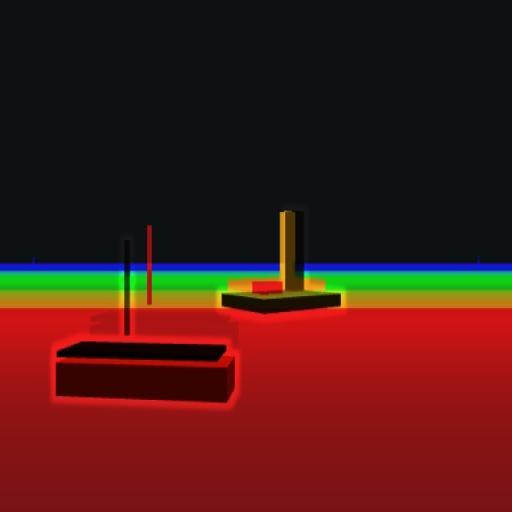platform: (222, 206, 342, 316)
vessel: (53, 246, 235, 402)
